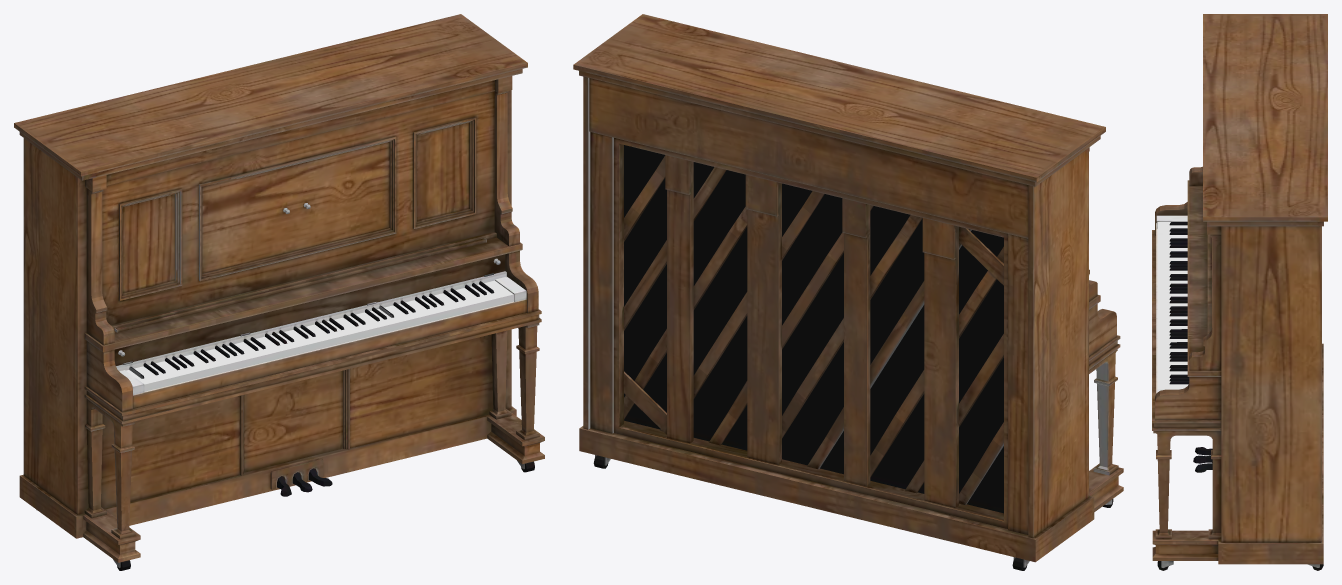
The model's file is piano.glb.
3 renders of one model, left to right at view 1: azimuth 30°, elevation 25°; view 2: azimuth 150°, elevation 25°; view 3: azimuth 270°, elevation 25°, orthographic. The views are drawn at different scales.
Parts seen in each view (by area): view 1: defaultMaterial; view 2: defaultMaterial; view 3: defaultMaterial.
Part boxes in pixels (box(x1,y1,x2,y2)): defaultMaterial: box(14, 14, 544, 570); defaultMaterial: box(573, 14, 1123, 570); defaultMaterial: box(1152, 14, 1327, 570).
Bounding box in the file's own units: 152 × 126 × 55.68.
Materials: 1 (1 with a texture image).
